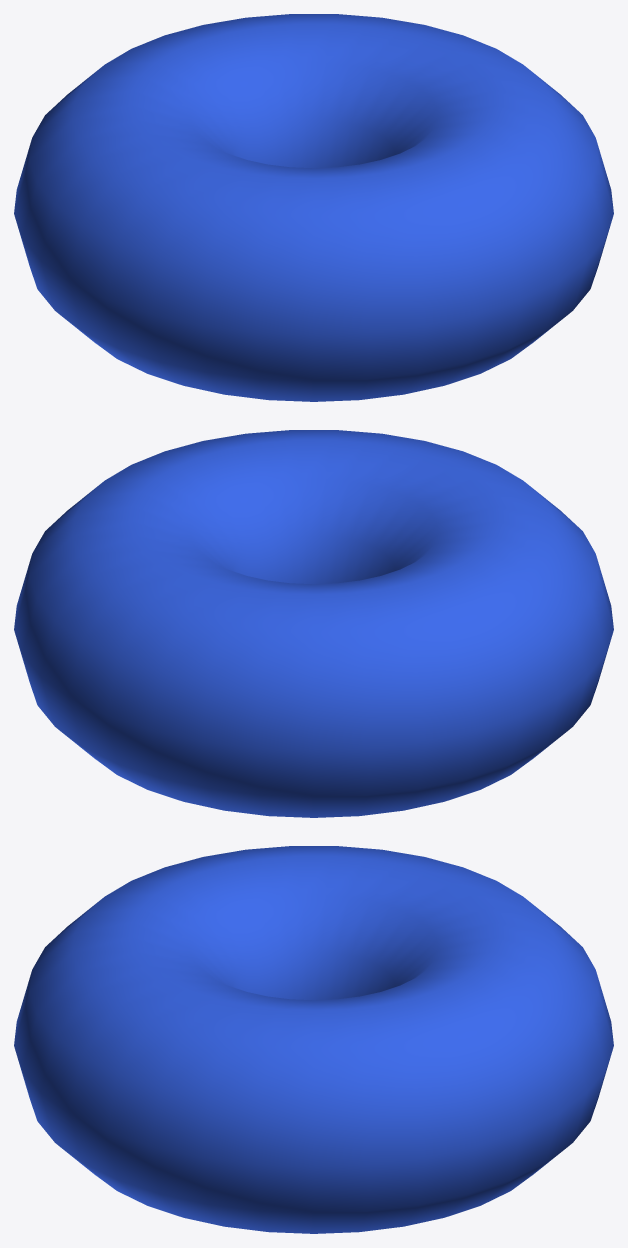
The model's file is prueba.glb.
3 views of the same model, one above another, from view 1: azimuth 30°, elevation 25°; view 2: azimuth 150°, elevation 25°; view 3: azimuth 270°, elevation 25° (orthographic).
Visible parts, largest first — view 1: Torus.002; view 2: Torus.002; view 3: Torus.002.
Boxes of the visible parts, <box> form: Torus.002: <box>14,14,613,401</box>; Torus.002: <box>14,430,613,817</box>; Torus.002: <box>14,846,613,1233</box>.
Size of the model in its own units: 1.28 by 0.5 by 1.28.
